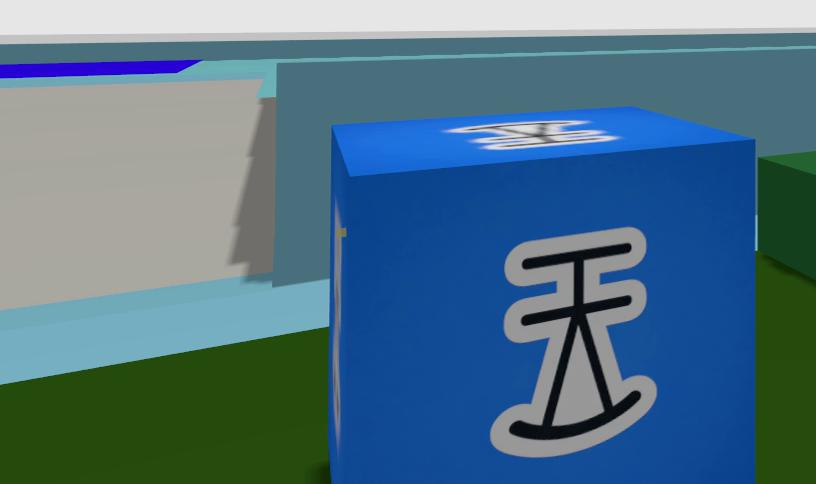KFS_REAL: (325, 107, 755, 483), (492, 227, 654, 455), (447, 119, 618, 150)
